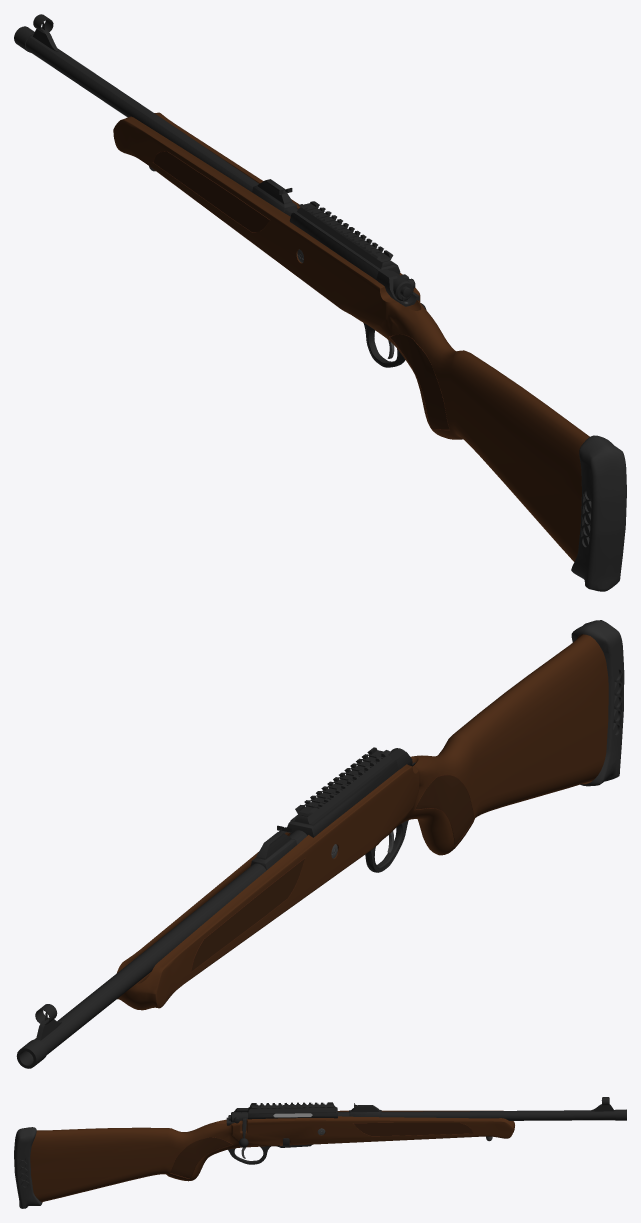
The model's file is VPO_215.glb.
The picture shows the model from 3 angles, top to bottom: view 1: azimuth 30°, elevation 25°; view 2: azimuth 150°, elevation 25°; view 3: azimuth 270°, elevation 25°; orthographic projection. The views are drawn at different scales.
Visible parts, largest first — view 1: Piano.031; view 2: Piano.031; view 3: Piano.031, Piano.030.
Boxes of the visible parts, bbox=[...] form: Piano.031: bbox=[14, 14, 626, 591]; Piano.031: bbox=[16, 620, 624, 1068]; Piano.031: bbox=[14, 1097, 626, 1208]; Piano.030: bbox=[228, 1112, 248, 1147].
Size of the model in its own units: 0.5881 by 1.62 by 8.69.
